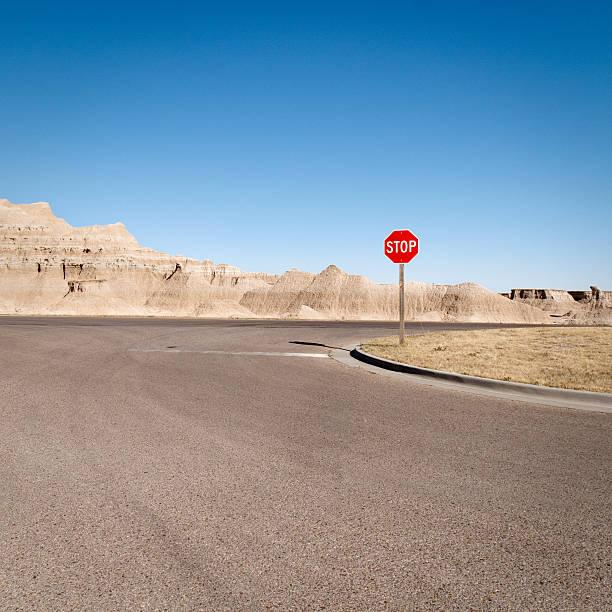Pole: (399, 264, 405, 344)
Sign: (385, 230, 419, 264)
